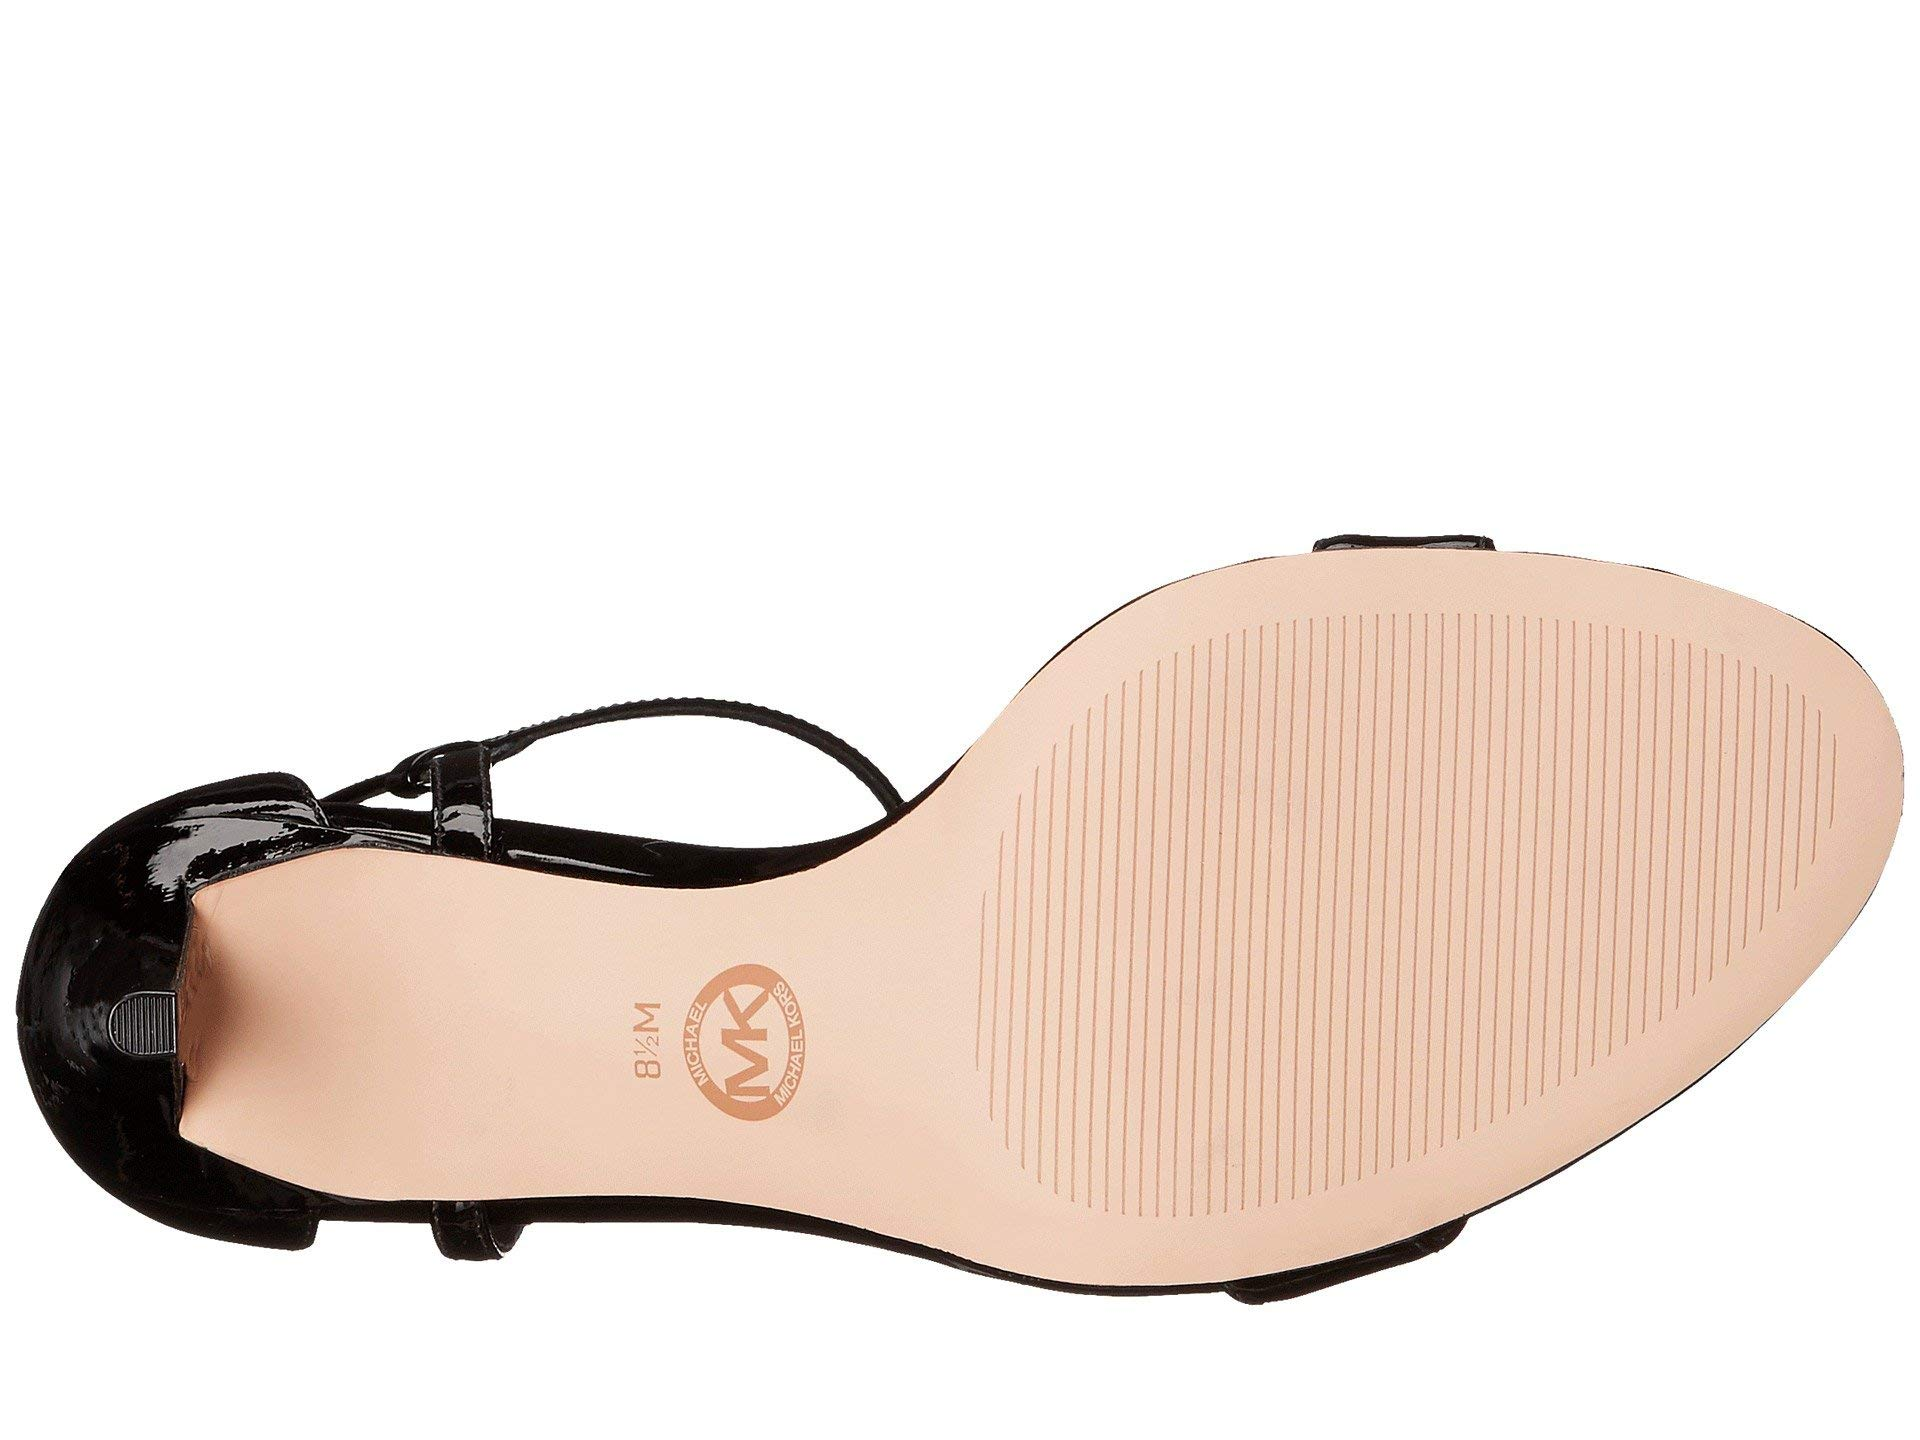line: (1178, 673, 1510, 976)
